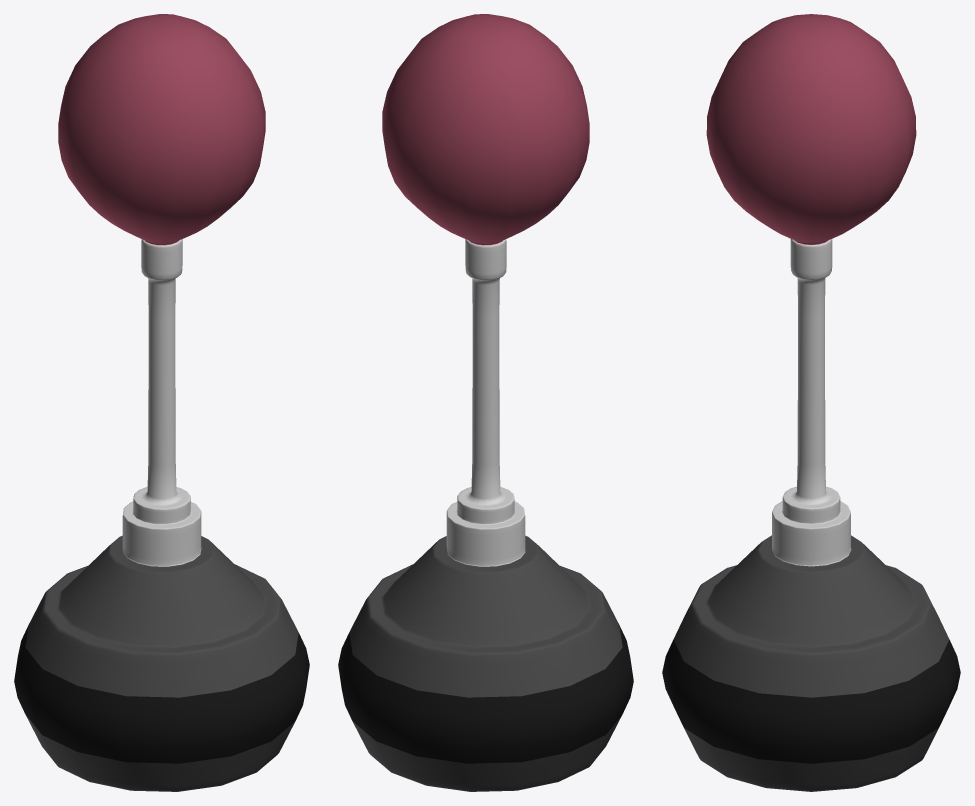
The model's file is Saco_boxeo_3.fbx.
3 views of the same model, side by side, from view 1: azimuth 30°, elevation 25°; view 2: azimuth 150°, elevation 25°; view 3: azimuth 270°, elevation 25° (orthographic).
Visible parts, largest first — view 1: Cube.001; view 2: Cube.001; view 3: Cube.001.
Part boxes in pixels (x1=…): Cube.001: x1=14, y1=14, x2=309, y2=791; Cube.001: x1=338, y1=14, x2=633, y2=791; Cube.001: x1=662, y1=14, x2=960, y2=791.
Bounding box in the file's own units: 189 × 501 × 189.
